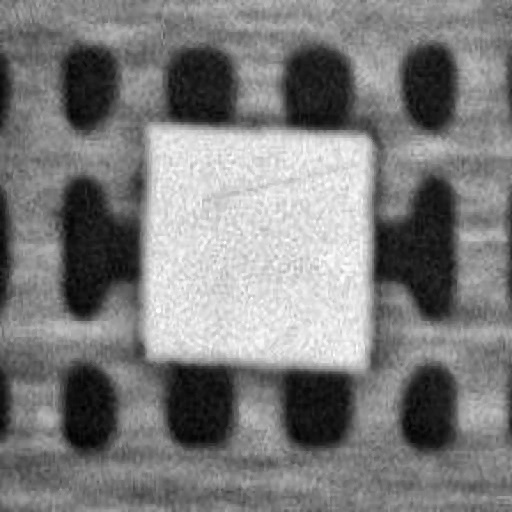DIE_CRACK: (303, 108, 512, 132)
